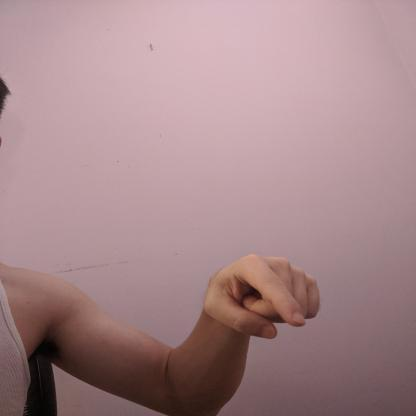Z: (200, 251, 324, 342)
